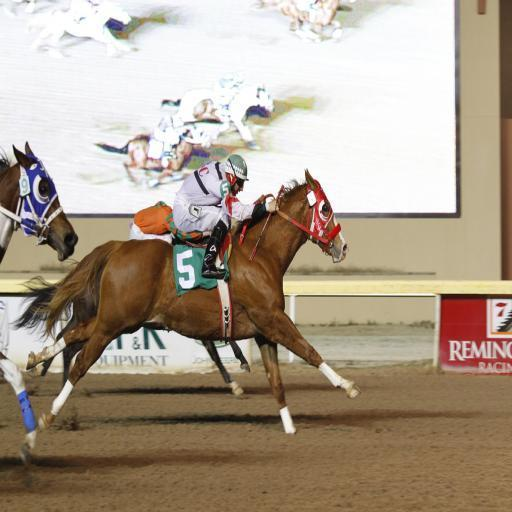horse: (8, 167, 362, 433), (8, 274, 252, 398), (0, 139, 80, 450)
